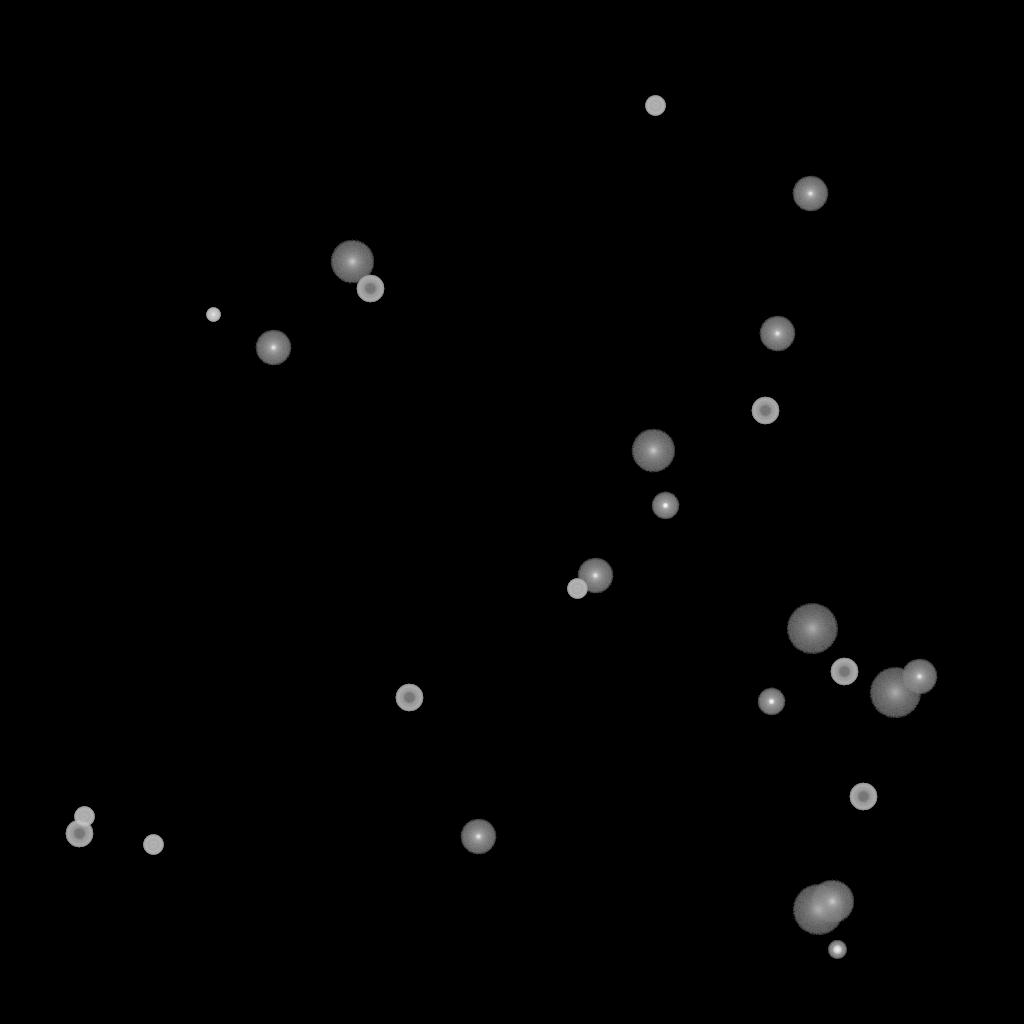depth:-10: (651, 492, 679, 520), (757, 688, 785, 716)
depth:-20: (828, 941, 846, 959)
depth:-30: (206, 308, 220, 322)
depth:-40: (143, 835, 163, 855), (645, 96, 665, 116), (567, 579, 587, 599), (74, 807, 94, 827)
depth:-50: (395, 684, 423, 712), (849, 783, 877, 811), (356, 275, 384, 303), (65, 820, 93, 848), (830, 658, 858, 686), (751, 397, 779, 425)
depth:0: (255, 330, 291, 366), (577, 558, 613, 594), (792, 176, 828, 212), (460, 819, 496, 855), (901, 659, 937, 695), (759, 316, 795, 352)
depth:10: (631, 429, 675, 473), (330, 240, 374, 284), (810, 880, 854, 924)
depth:20: (869, 668, 921, 718), (792, 885, 844, 935), (786, 604, 838, 654)
